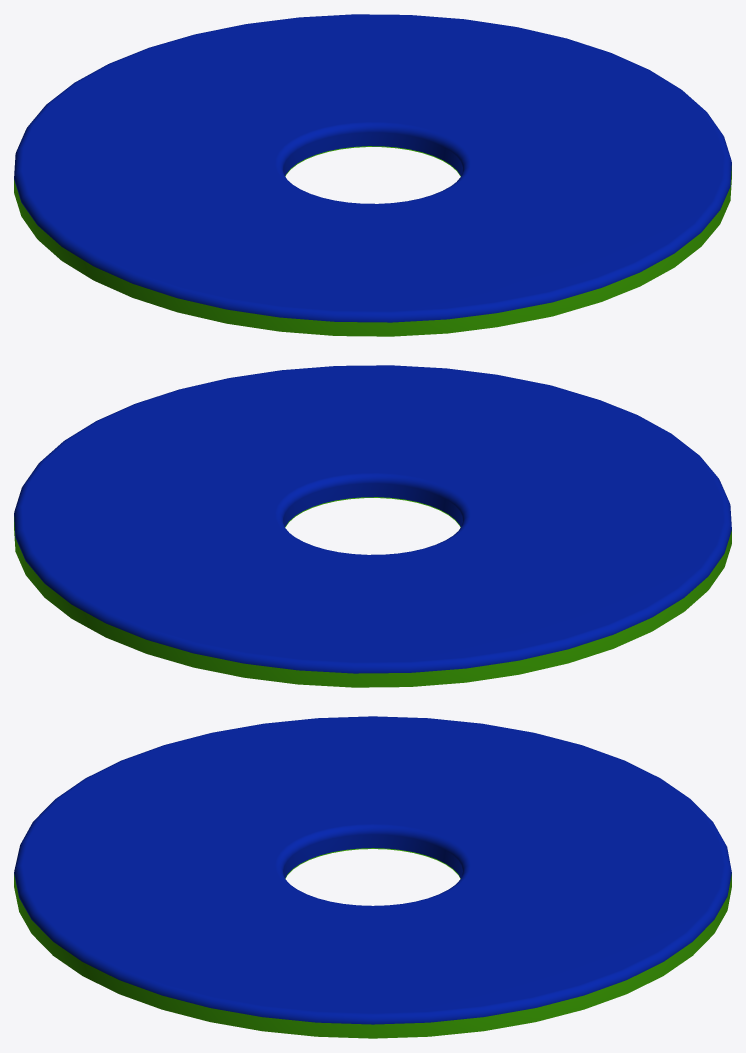
The picture shows the model from 3 angles, top to bottom: view 1: azimuth 30°, elevation 25°; view 2: azimuth 150°, elevation 25°; view 3: azimuth 270°, elevation 25°; orthographic projection.
Visible parts, largest first — view 1: plank21; view 2: plank21; view 3: plank21.
Boxes of the visible parts, box(x1,y1,x2,y2) form: plank21: box(14, 14, 731, 336); plank21: box(14, 365, 731, 687); plank21: box(14, 716, 731, 1038).
Bounding box in the file's own units: 3000 × 100 × 3000.
